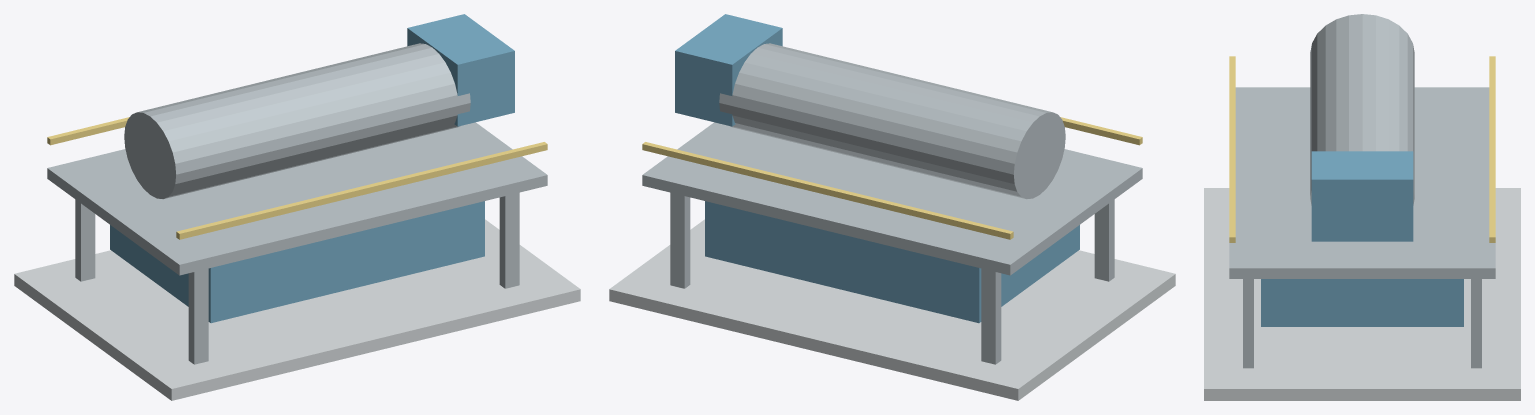
File: medium.glb
3 views of the same model, side by side, from view 1: azimuth 30°, elevation 25°; view 2: azimuth 150°, elevation 25°; view 3: azimuth 270°, elevation 25° (orthographic).
Visible parts, largest first — view 1: medium; view 2: medium; view 3: medium.
Part boxes in pixels (bbox=[...]): medium: bbox=[14, 14, 580, 400]; medium: bbox=[609, 14, 1175, 400]; medium: bbox=[1204, 14, 1520, 400].
Bounding box in the file's own units: 12 × 6 × 8.
